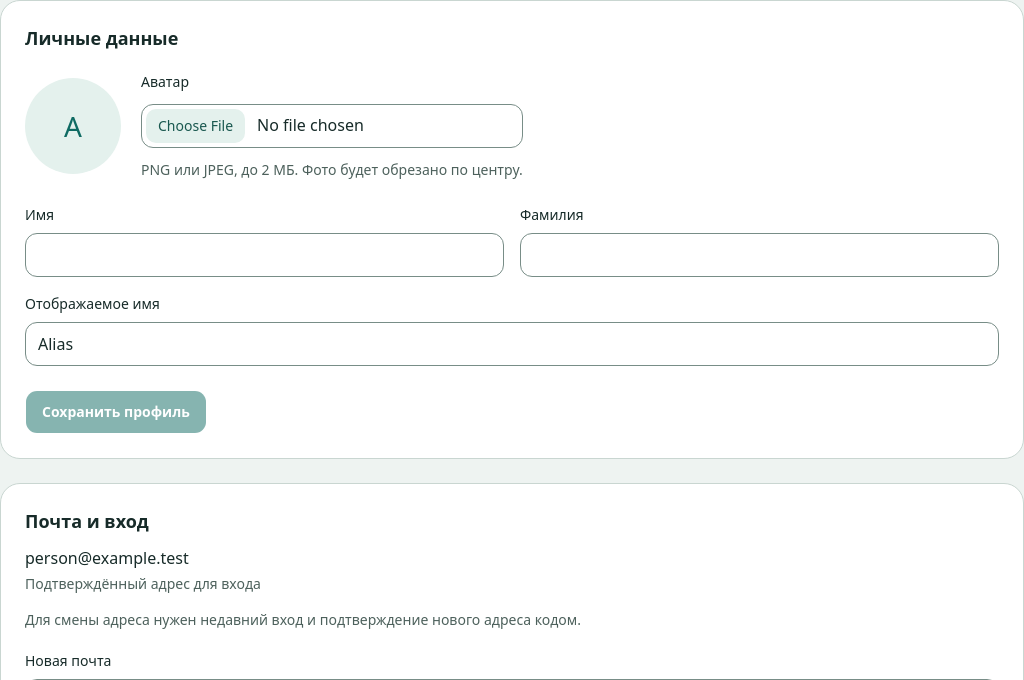
it: personal profile › saves explicit first and last names without changing the user identity
Type "Name" into the field labelled "Имя" at [264, 255], box [25,233,504,277]
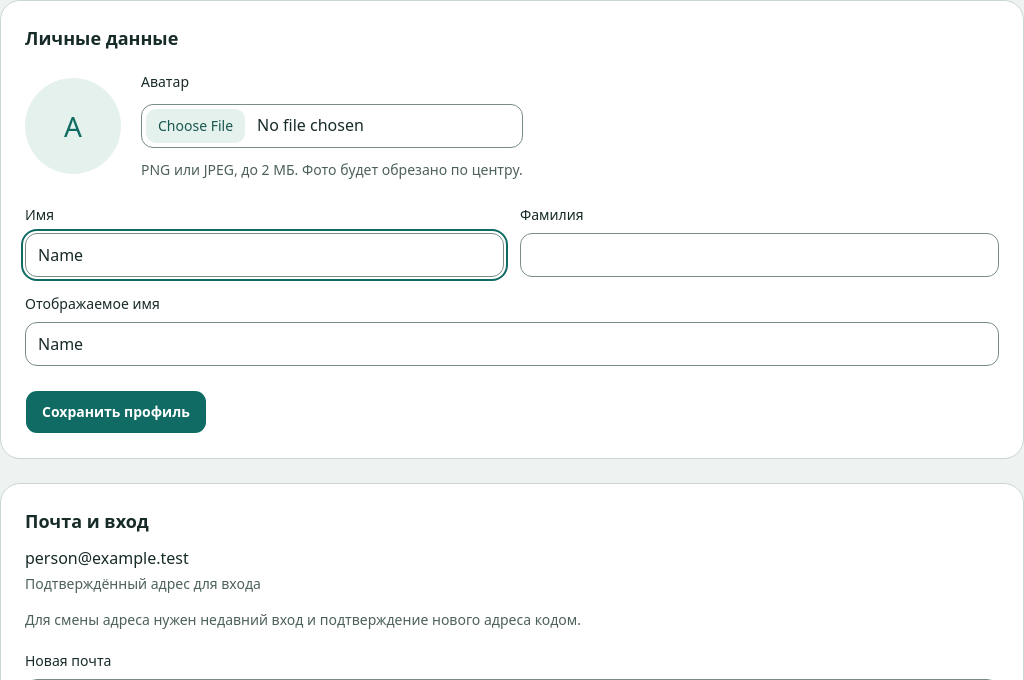
Type "Family" into the field labelled "Фамилия" at [760, 255], box [520,233,999,277]
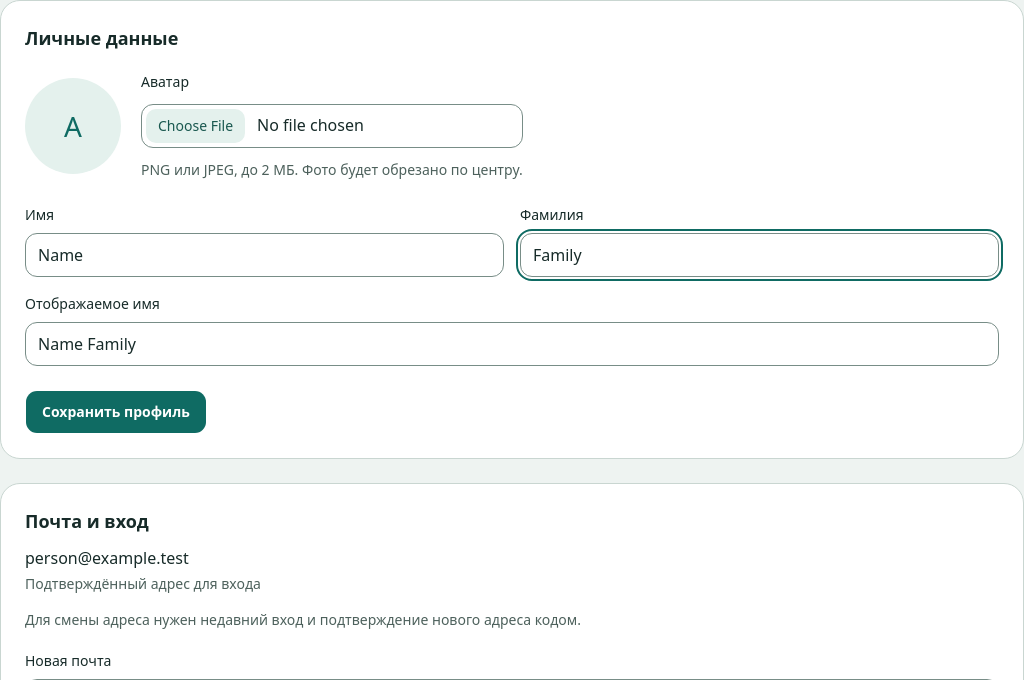
Click the button "Сохранить профиль" at [116, 412], box [25,390,207,434]
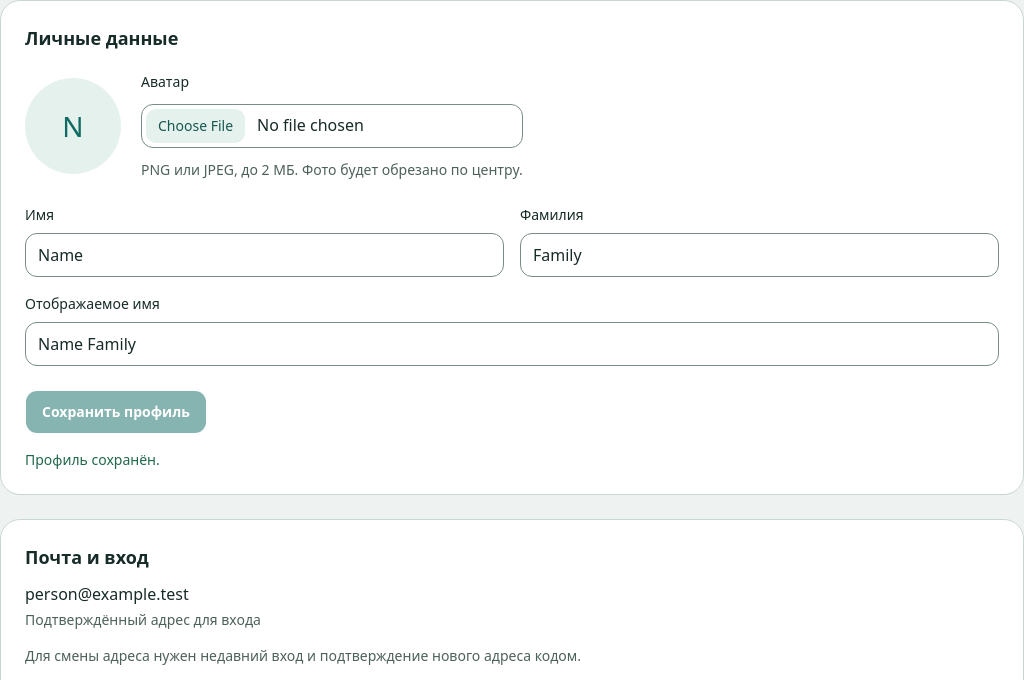
Expected: the message shows "Профиль сохранён", [25,450,160,469]
